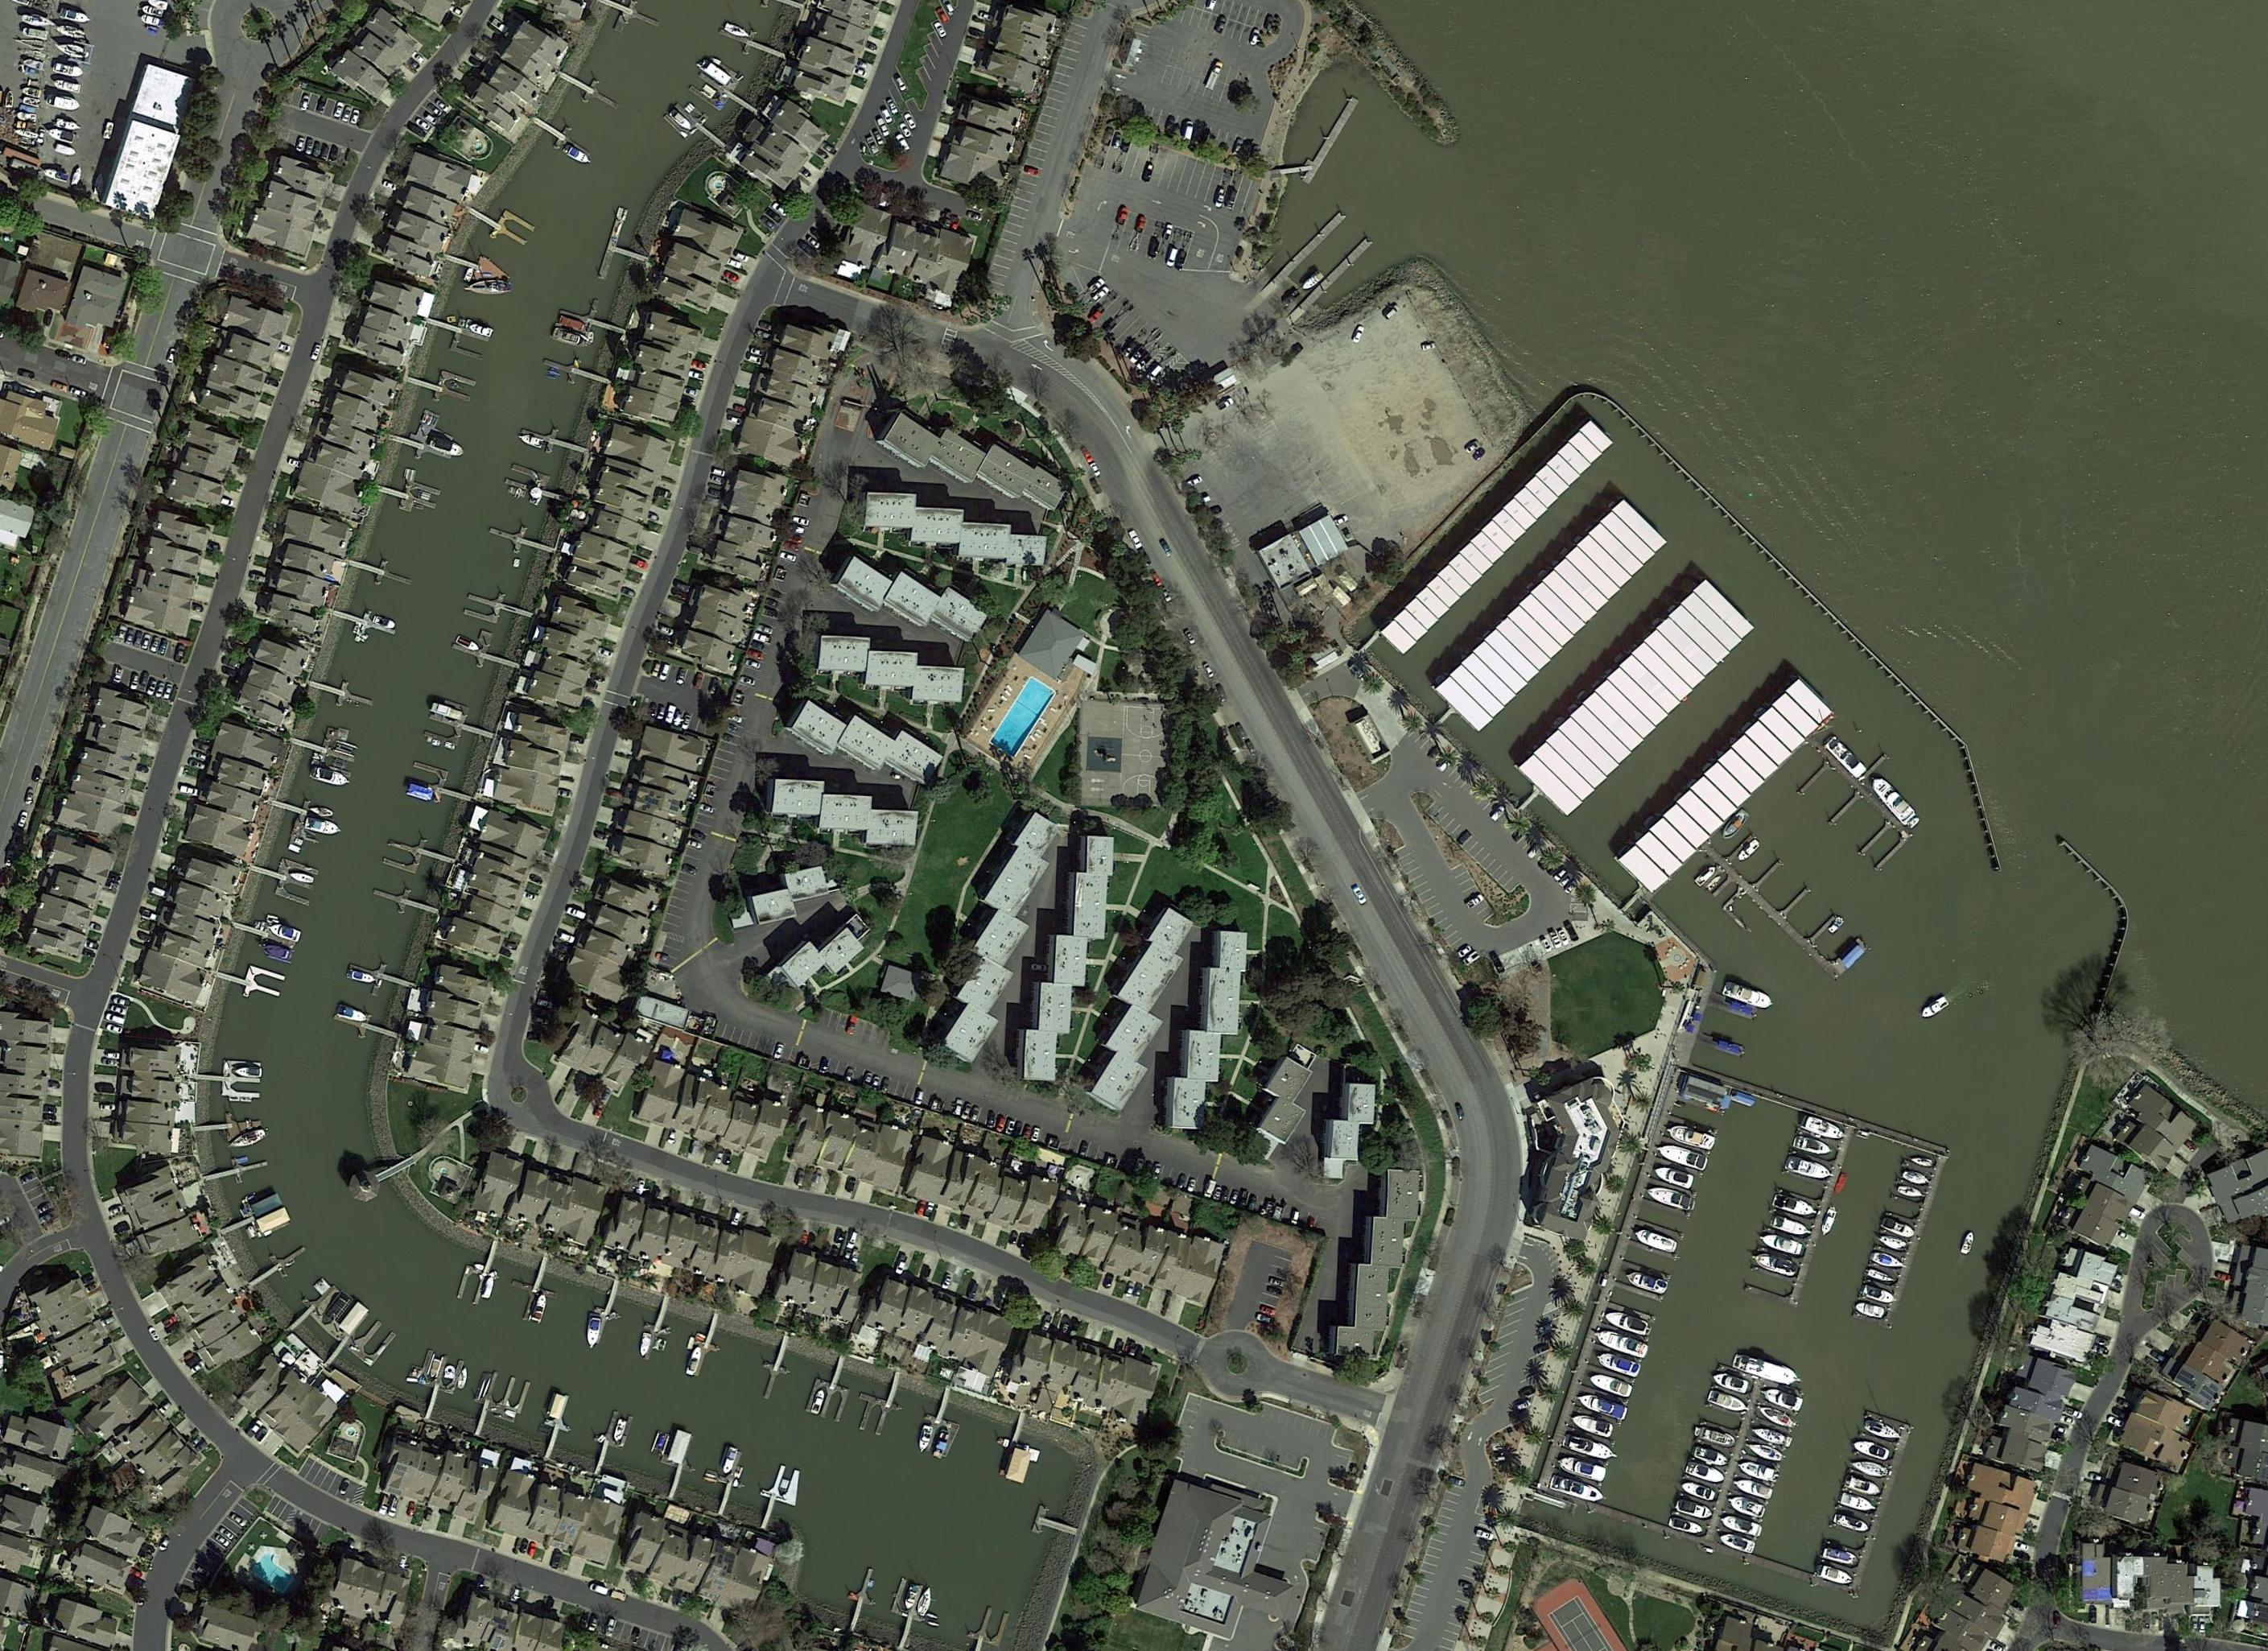harbor: (1537, 1070, 1734, 1505), (1682, 815, 1868, 1005), (1666, 1364, 1804, 1552), (1779, 711, 1940, 872), (1743, 1113, 1853, 1306), (1816, 1410, 1913, 1587), (1851, 1150, 1945, 1330), (283, 1272, 398, 1385), (384, 401, 468, 471), (552, 290, 632, 358), (1301, 96, 1360, 186), (501, 1251, 570, 1328), (689, 56, 764, 126), (214, 1185, 292, 1252), (848, 1364, 914, 1441), (265, 791, 340, 858), (664, 93, 732, 162), (464, 192, 537, 254), (992, 1411, 1050, 1487), (1307, 237, 1373, 304), (475, 1370, 532, 1447), (1282, 211, 1347, 277), (245, 849, 320, 906), (424, 696, 496, 755), (449, 621, 523, 678), (376, 460, 446, 519), (407, 1350, 465, 1422), (696, 1443, 753, 1514), (528, 108, 598, 166), (751, 1463, 808, 1534), (880, 1578, 935, 1650), (806, 1350, 860, 1423), (383, 830, 456, 883), (651, 1427, 704, 1500), (343, 951, 414, 1005), (402, 762, 477, 813), (586, 1, 671, 46), (556, 63, 625, 118), (215, 956, 287, 1008), (403, 361, 478, 411), (501, 462, 574, 514), (915, 1389, 968, 1459), (597, 208, 644, 286), (752, 1331, 800, 1403), (464, 584, 535, 633), (484, 516, 557, 563), (443, 246, 516, 292), (516, 418, 588, 464), (534, 1390, 579, 1463), (635, 1294, 682, 1365), (686, 1310, 732, 1383), (246, 1241, 311, 1293), (370, 878, 439, 926), (837, 1564, 883, 1636), (585, 1279, 630, 1351), (715, 19, 785, 64), (541, 349, 613, 393), (419, 317, 491, 361), (452, 1237, 498, 1306), (330, 601, 399, 646), (329, 1003, 398, 1047), (349, 551, 416, 593), (236, 907, 301, 949), (289, 739, 357, 778), (198, 1059, 262, 1099), (204, 1153, 270, 1191), (596, 1410, 633, 1475), (961, 1604, 1010, 1651), (196, 1109, 262, 1144), (320, 676, 377, 714), (1032, 1505, 1078, 1545)
ship: (1730, 1351, 1804, 1389), (1867, 772, 1918, 827), (1823, 734, 1869, 782), (1561, 1431, 1620, 1466), (1548, 1473, 1607, 1507), (1595, 1327, 1651, 1360), (1721, 981, 1776, 1013), (1656, 1140, 1709, 1173), (1577, 1391, 1629, 1423), (1666, 1121, 1717, 1154), (1556, 1453, 1607, 1484), (1784, 1153, 1833, 1184), (1602, 1307, 1652, 1339), (1800, 1112, 1848, 1145), (1644, 1182, 1694, 1212), (1752, 1249, 1799, 1280), (1772, 1191, 1818, 1221), (1588, 1371, 1634, 1401), (1595, 1349, 1641, 1379), (1569, 1411, 1616, 1440), (1623, 1268, 1669, 1297), (1633, 1227, 1679, 1256), (1759, 1231, 1804, 1259), (1770, 1212, 1813, 1241), (1707, 1389, 1750, 1418), (1720, 1512, 1765, 1539), (1696, 1424, 1738, 1452), (1761, 1385, 1804, 1413), (1685, 1459, 1726, 1488), (1793, 1133, 1833, 1162), (309, 765, 353, 790), (1718, 808, 1751, 842), (1758, 1405, 1800, 1431), (1863, 1418, 1904, 1445), (1727, 1492, 1767, 1520), (1711, 1369, 1750, 1397), (1653, 1164, 1695, 1190), (1674, 1496, 1714, 1523), (1815, 1562, 1856, 1588), (1733, 1476, 1774, 1501), (1837, 1490, 1878, 1516), (1691, 1443, 1730, 1470), (1821, 1544, 1861, 1570), (1917, 993, 1953, 1022), (427, 435, 467, 460), (1844, 1474, 1884, 1499), (1850, 1456, 1891, 1481), (552, 325, 592, 350), (303, 815, 344, 839), (1750, 1423, 1789, 1447), (1738, 1459, 1775, 1483), (1853, 1438, 1891, 1462), (229, 1127, 266, 1151), (1832, 1513, 1871, 1535), (464, 279, 514, 296), (1746, 1440, 1784, 1463), (1717, 1531, 1755, 1554), (1680, 1479, 1717, 1503), (1668, 1515, 1705, 1537), (54, 39, 91, 62), (1881, 1217, 1916, 1240), (1862, 1284, 1897, 1307), (45, 92, 81, 114), (563, 142, 593, 169), (1870, 1249, 1905, 1272), (268, 922, 303, 943), (668, 107, 695, 134), (20, 12, 56, 32), (430, 702, 464, 723), (1300, 268, 1328, 293), (915, 1586, 936, 1619), (261, 943, 294, 964), (932, 1425, 951, 1460), (336, 1005, 369, 1026), (1854, 1299, 1886, 1320), (52, 23, 86, 42), (1877, 1232, 1907, 1253), (720, 1445, 740, 1476), (530, 1294, 550, 1325), (52, 61, 85, 80), (1901, 1167, 1931, 1188), (59, 8, 92, 27), (45, 125, 76, 144), (1736, 839, 1761, 863), (585, 1313, 601, 1350), (1866, 1267, 1897, 1286), (916, 1424, 935, 1455), (724, 21, 752, 42), (1694, 863, 1718, 887), (1897, 1182, 1926, 1202), (1819, 1207, 1838, 1237), (686, 1345, 703, 1377), (903, 1583, 921, 1613), (810, 1388, 827, 1417), (52, 77, 82, 94), (480, 1273, 497, 1302), (42, 167, 71, 184), (518, 431, 545, 449), (455, 635, 482, 653), (1832, 1170, 1850, 1196), (467, 321, 495, 338), (351, 969, 377, 987), (53, 118, 82, 134), (1960, 1230, 1977, 1257), (288, 869, 315, 886), (372, 614, 398, 631), (637, 1331, 653, 1359), (309, 803, 335, 819), (22, 56, 46, 72), (1704, 873, 1723, 894), (612, 1418, 628, 1443), (232, 1066, 263, 1078), (55, 142, 78, 159), (1911, 1154, 1935, 1169), (456, 1367, 471, 1391), (141, 4, 164, 19), (427, 1358, 443, 1380), (20, 85, 43, 100), (14, 127, 39, 140), (139, 13, 161, 27), (69, 167, 84, 188), (16, 110, 38, 123), (22, 95, 43, 108), (93, 173, 105, 194), (462, 266, 475, 283), (5, 89, 14, 110)
